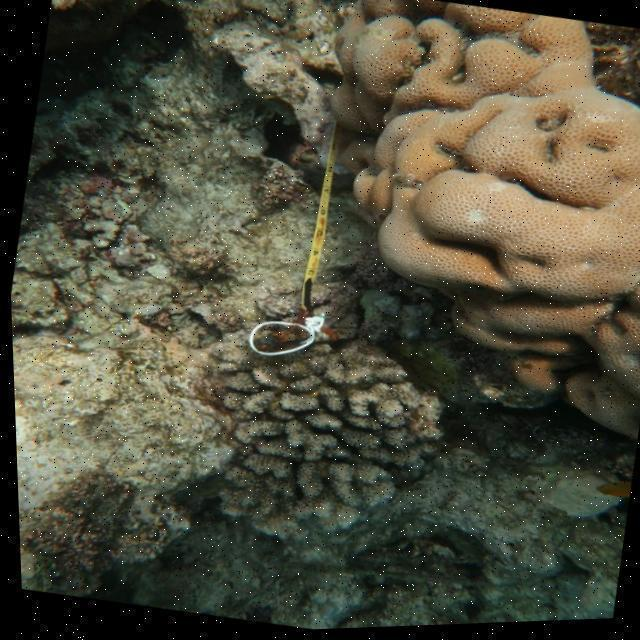Healthy Coral: (264, 0, 640, 416)
